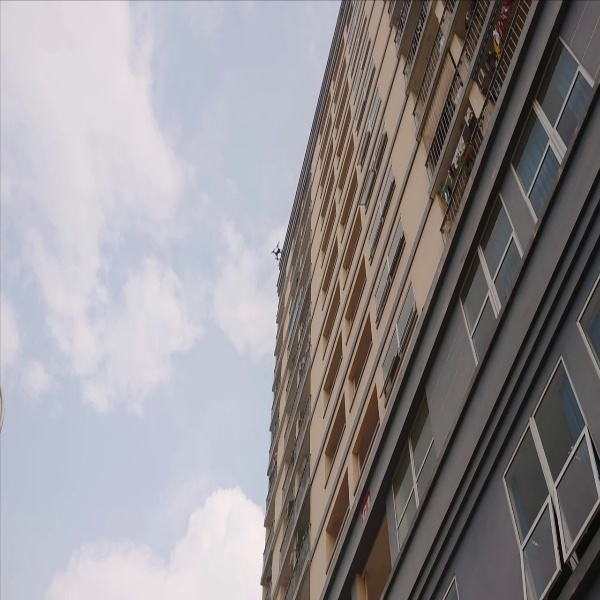drone: (268, 241, 287, 262)
